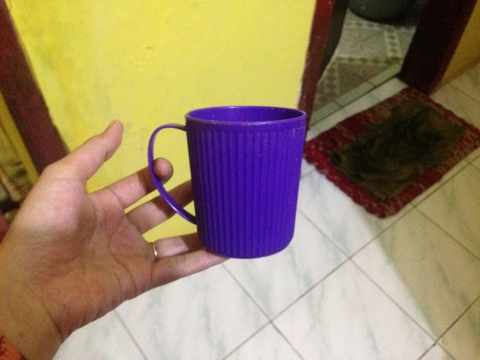tempat minum: (148, 106, 307, 258)
